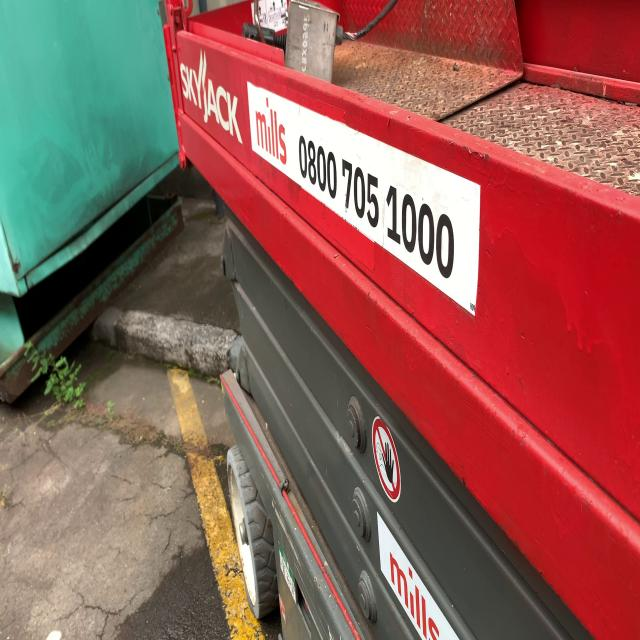Adesivo Longo: (247, 80, 482, 320)
